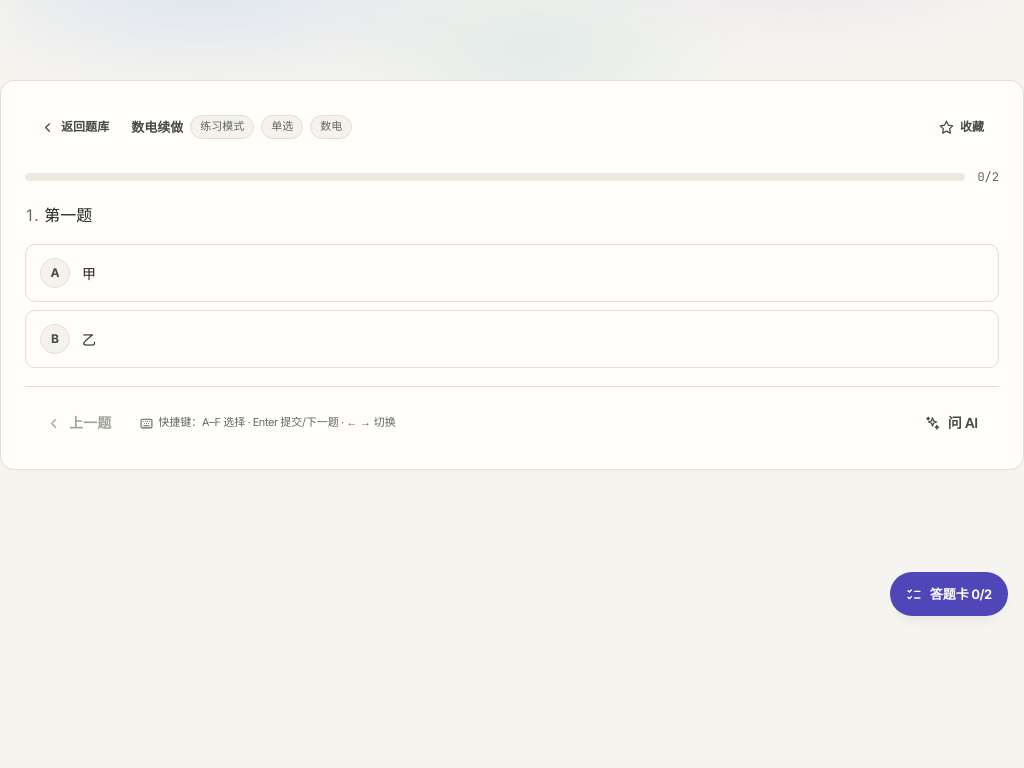
普通刷题持久会话前端 › 选择题提交失败不本地判分，保留选择并用同一幂等标识重试
This screenshot has width=1024, height=768.
Later steps or results of the test are not shown.
Click the button "B 乙": (55, 339) [25, 310, 999, 368]
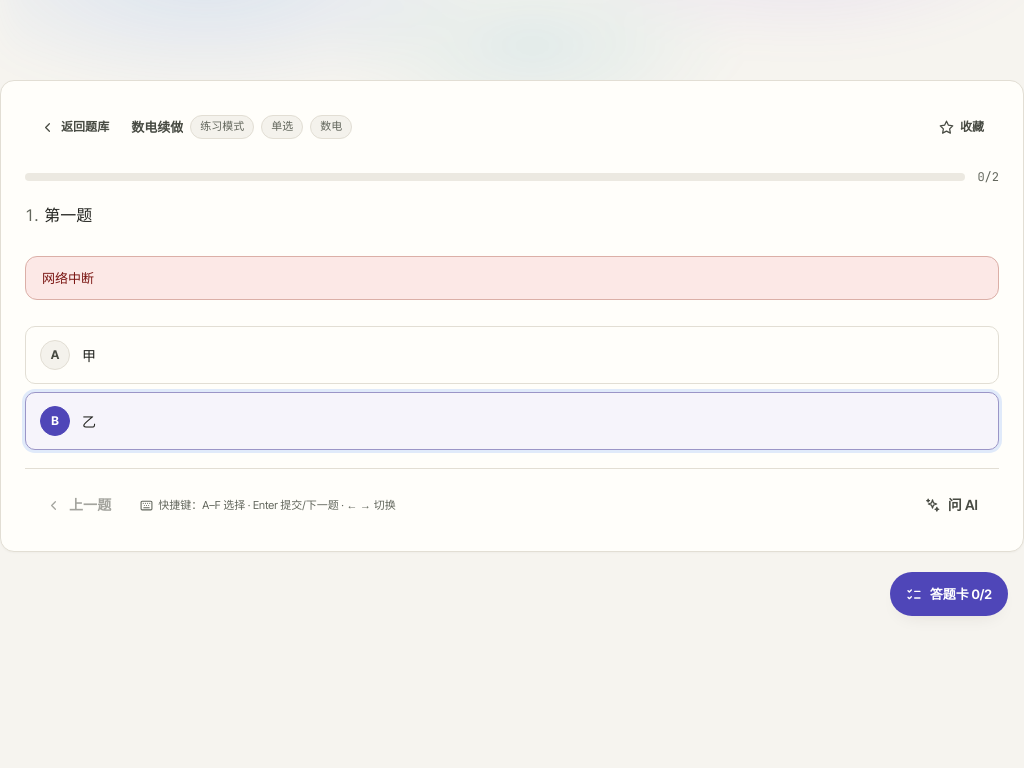
Result: the message reads "网络中断" at [42, 270, 94, 286]
